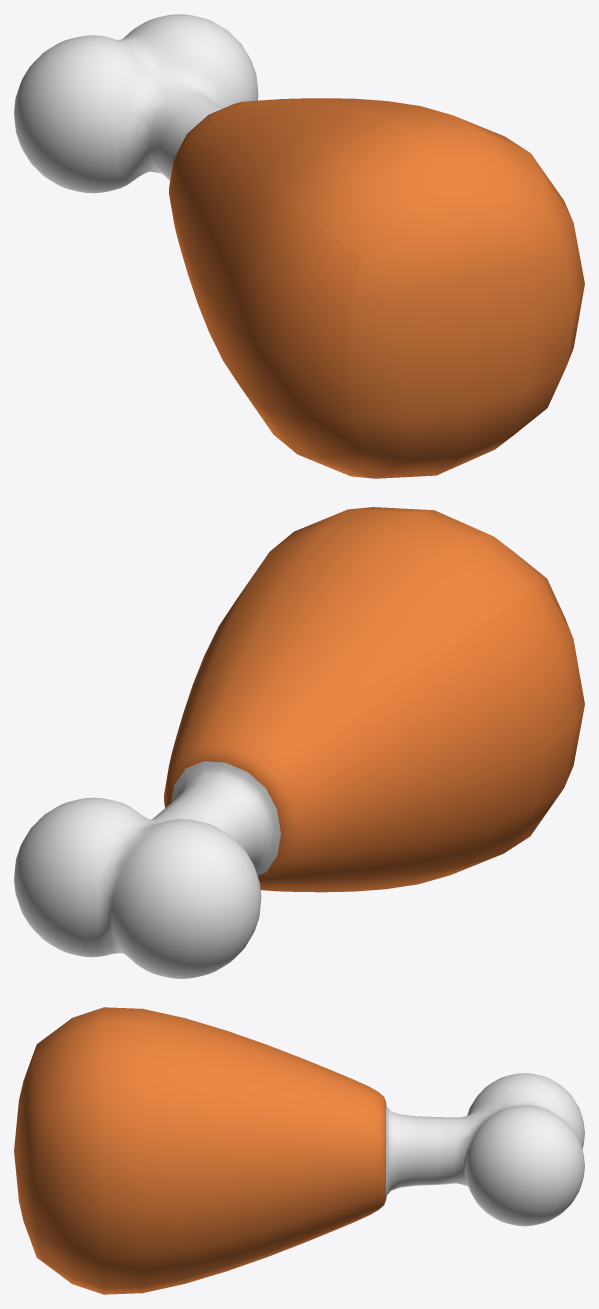
File: Meat.fbx
3 renders of one model, top to bottom at view 1: azimuth 30°, elevation 25°; view 2: azimuth 150°, elevation 25°; view 3: azimuth 270°, elevation 25°, orthographic. The views are drawn at different scales.
Parts seen in each view (by area): view 1: Meat; view 2: Meat; view 3: Meat.
Part boxes in pixels (x1,y1,x2,y2): Meat: [14, 14, 584, 478]; Meat: [14, 507, 584, 978]; Meat: [14, 1007, 584, 1294].
Size of the model in its own units: 388 by 388 by 780.
